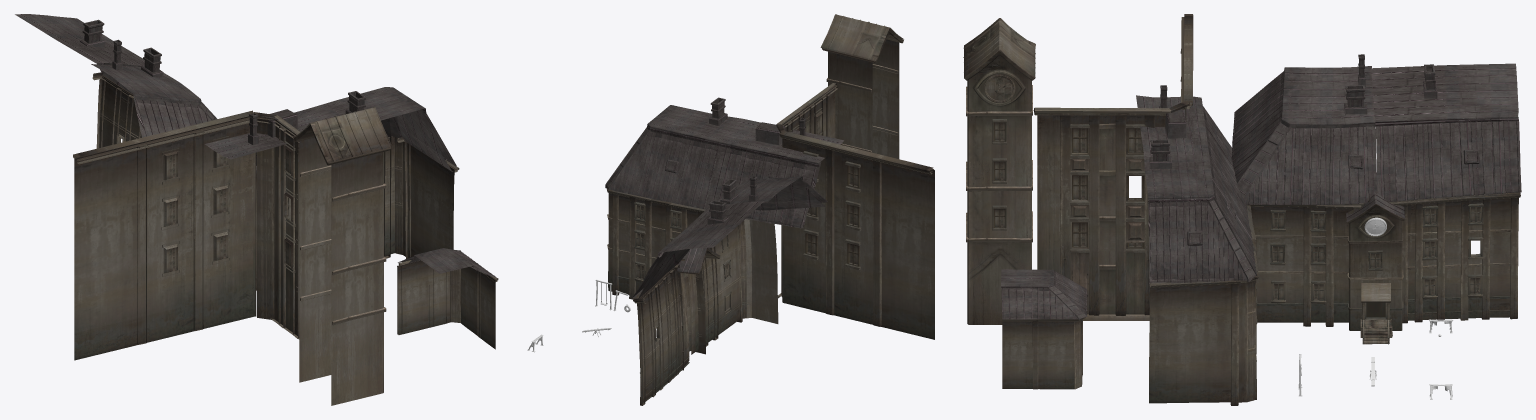
The picture shows the model from 3 angles, left to right: view 1: azimuth 30°, elevation 25°; view 2: azimuth 150°, elevation 25°; view 3: azimuth 270°, elevation 25°; orthographic projection. The views are drawn at different scales.
Parts seen in each view (by area): view 1: SM_SchoolWall.mo, SM_SchoolClocktower.mo, SM_SchoolBuilding02_BackBuilding.mo, SM_SchoolBuildingCrossSection.mo, SM_SmallSchoolHouse.mo, SM_SchoolBuilding02_WindowEntrance.mo, SM_SchoolBuilding02.mo; view 2: SM_SchoolWall.mo, SM_SchoolBuilding02_BackBuilding.mo, SM_SchoolBuilding02.mo, SM_SchoolClocktower.mo, SM_SchoolBuilding02_WindowEntrance.mo, SM_SchoolBuildingCrossSection.mo; view 3: SM_SchoolBuilding02.mo, SM_SchoolBuilding02_WindowEntrance.mo, SM_SchoolBuilding02_BackBuilding.mo, SM_SchoolBuildingCrossSection.mo, SM_SchoolClocktower.mo, SM_SmallSchoolHouse.mo, SM_SchoolWall.mo.
Part boxes in pixels (box(x1,y1,x2,y2)): SM_SchoolWall.mo: box(73, 110, 256, 360); SM_SchoolClocktower.mo: box(291, 107, 392, 405); SM_SchoolBuilding02_BackBuilding.mo: box(204, 87, 459, 290); SM_SchoolBuildingCrossSection.mo: box(75, 112, 300, 339); SM_SmallSchoolHouse.mo: box(397, 248, 498, 349); SM_SchoolBuilding02_WindowEntrance.mo: box(15, 14, 144, 148); SM_SchoolBuilding02.mo: box(91, 39, 256, 173); SM_SchoolWall.mo: box(779, 132, 934, 339); SM_SchoolBuilding02_BackBuilding.mo: box(605, 97, 843, 322); SM_SchoolBuilding02.mo: box(677, 176, 827, 370); SM_SchoolClocktower.mo: box(820, 14, 903, 158); SM_SchoolBuilding02_WindowEntrance.mo: box(633, 200, 763, 405); SM_SchoolBuildingCrossSection.mo: box(776, 83, 933, 298); SM_SchoolBuilding02.mo: box(1231, 54, 1404, 344); SM_SchoolBuilding02_WindowEntrance.mo: box(1371, 63, 1521, 323); SM_SchoolBuilding02_BackBuilding.mo: box(1136, 85, 1258, 405); SM_SchoolBuildingCrossSection.mo: box(1033, 14, 1189, 320); SM_SchoolClocktower.mo: box(963, 18, 1035, 324); SM_SmallSchoolHouse.mo: box(1001, 269, 1087, 389); SM_SchoolWall.mo: box(1185, 14, 1193, 121).
Bounding box in the file's own units: 7523 × 5549 × 9690.
